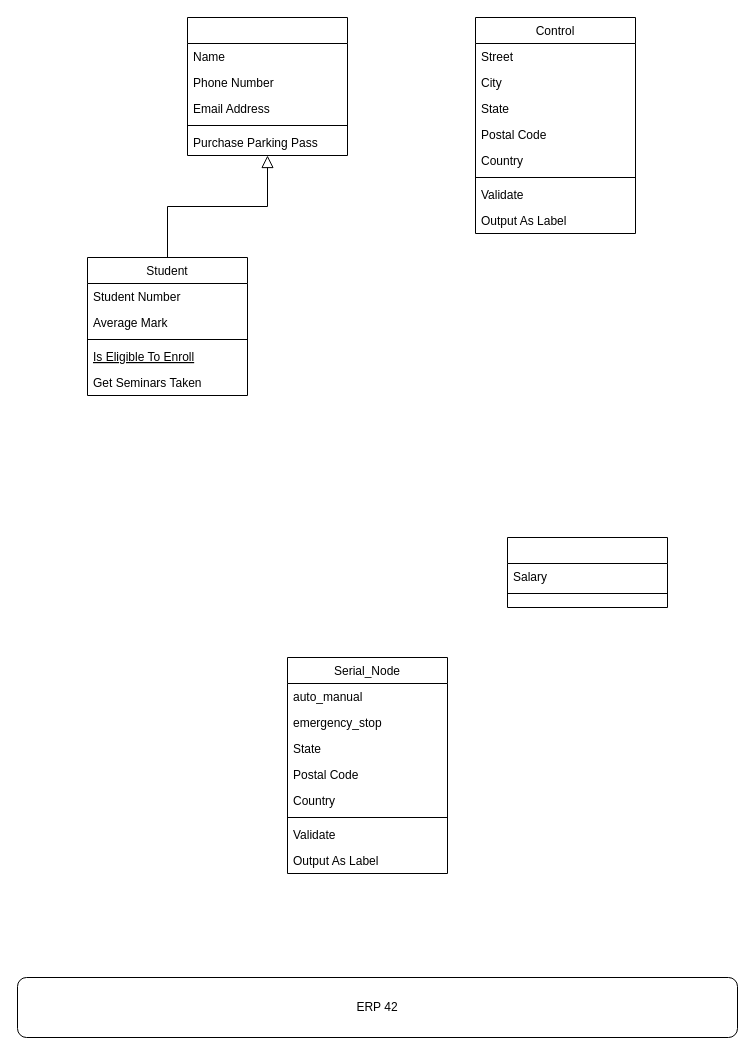
Image size: 755x1055. Some labels were removed from this diagram. The shapes that lost their labels are listed below. From the top down, each one's box as (x1, y1, x2, y2) in pixels, then its label:
(186, 16, 348, 156): Planner
(506, 536, 668, 608): serialRead
